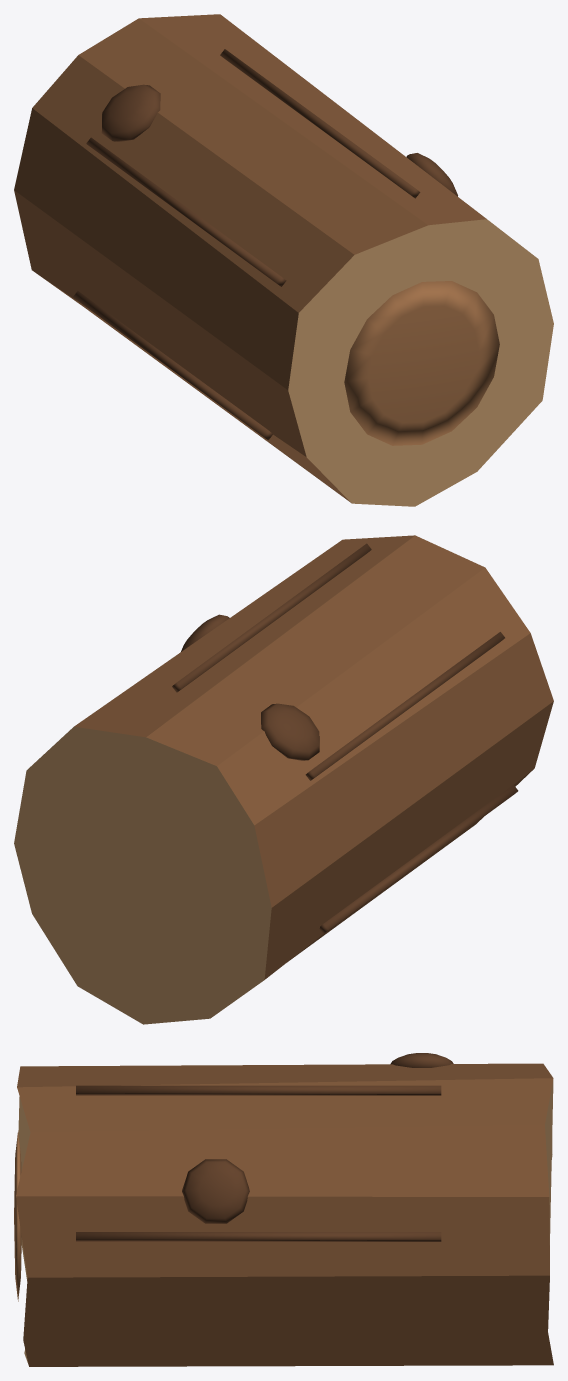
File: mat-hardwood.glb
3 views of the same model, one above another, from view 1: azimuth 30°, elevation 25°; view 2: azimuth 150°, elevation 25°; view 3: azimuth 270°, elevation 25° (orthographic). The views are drawn at different scales.
Visible parts, largest first — view 1: mat; view 2: mat; view 3: mat.
Part boxes in pixels (x1,y1,x2,y2): mat: (14, 14, 553, 506); mat: (14, 535, 553, 1024); mat: (14, 1053, 553, 1366).
Size of the model in its own units: 0.2182 by 0.2287 by 0.3929.
